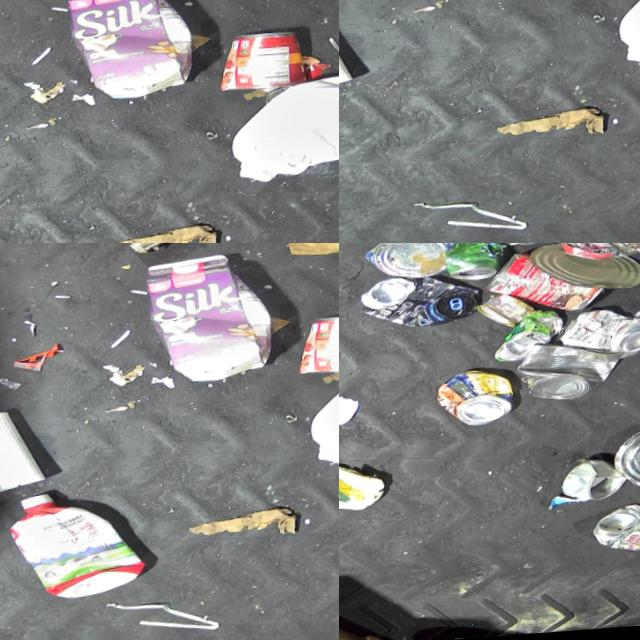can: (489, 251, 616, 324), (362, 274, 489, 337), (520, 343, 633, 411), (223, 34, 319, 100), (532, 244, 640, 301), (441, 371, 527, 434), (563, 311, 640, 369), (501, 314, 573, 370), (366, 243, 455, 285), (572, 463, 640, 511), (297, 311, 339, 388), (446, 243, 515, 289), (482, 296, 544, 337), (599, 507, 640, 563), (618, 423, 640, 502), (482, 243, 572, 255), (459, 636, 556, 640)
milk_jug: (232, 76, 339, 195), (304, 353, 339, 482)
non_white_jug: (57, 0, 212, 109)
